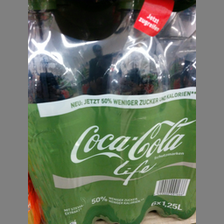soda: (89, 1, 169, 224), (28, 1, 98, 224)
